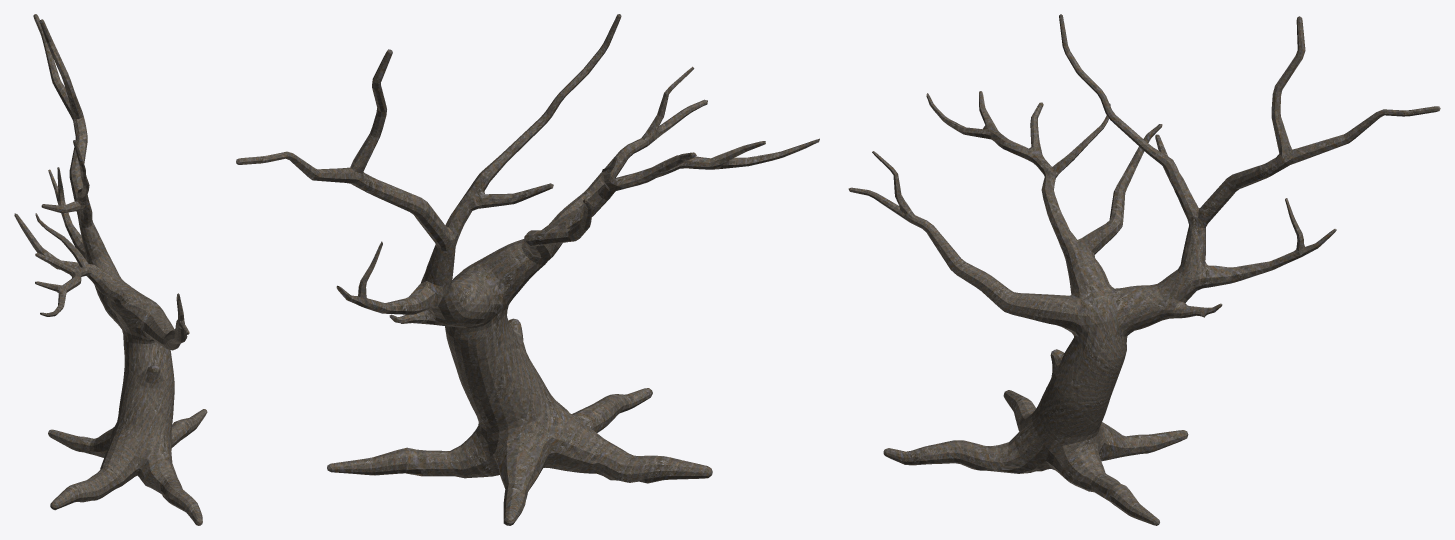
The model's file is Tree2Material.fbx.
The picture shows the model from 3 angles, left to right: view 1: azimuth 30°, elevation 25°; view 2: azimuth 150°, elevation 25°; view 3: azimuth 270°, elevation 25°; orthographic projection. The views are drawn at different scales.
Visible parts, largest first — view 1: Tree_1; view 2: Tree_1; view 3: Tree_1.
Boxes of the visible parts, bbox=[...] form: Tree_1: bbox=[14, 14, 207, 525]; Tree_1: bbox=[236, 14, 819, 525]; Tree_1: bbox=[848, 14, 1440, 525].
Bounding box in the file's own units: 674 × 938 × 1103.
Materials: 1 (1 with a texture image).
